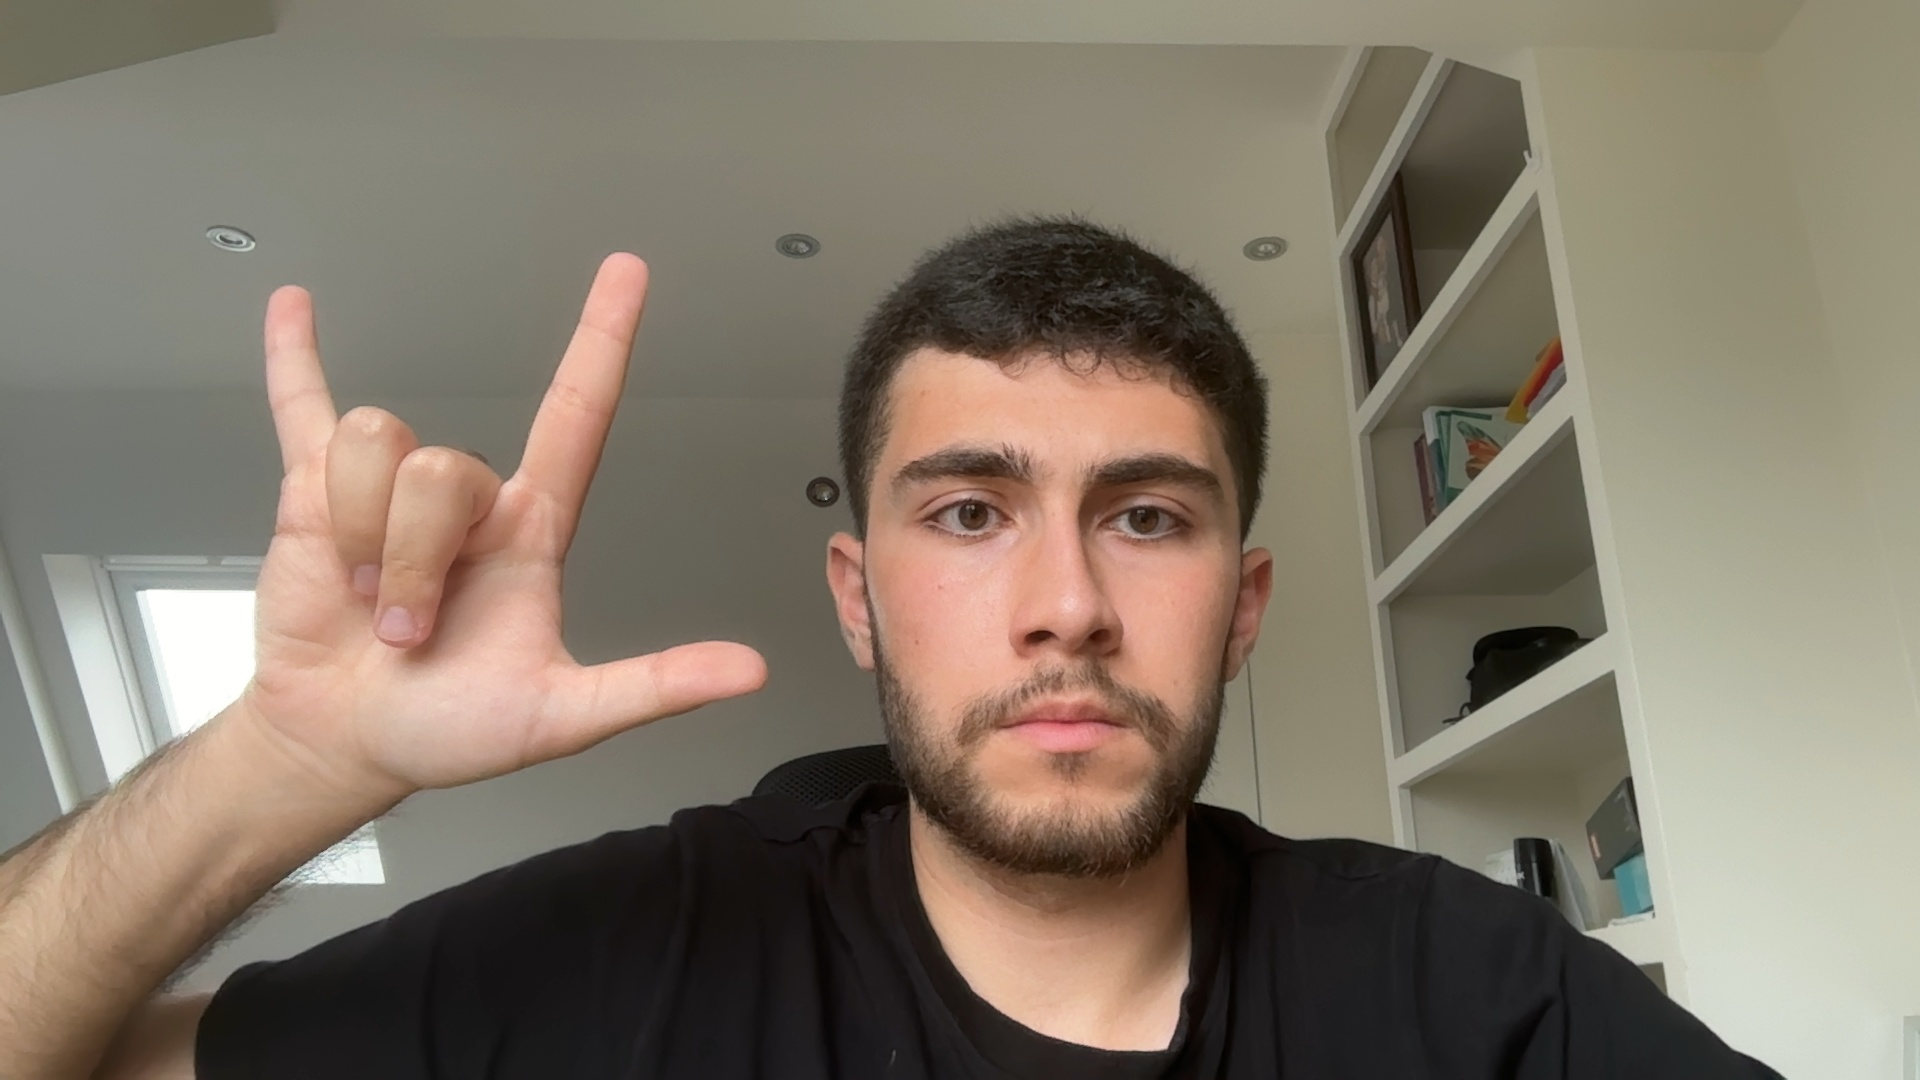I Love You: (165, 229, 806, 778)
